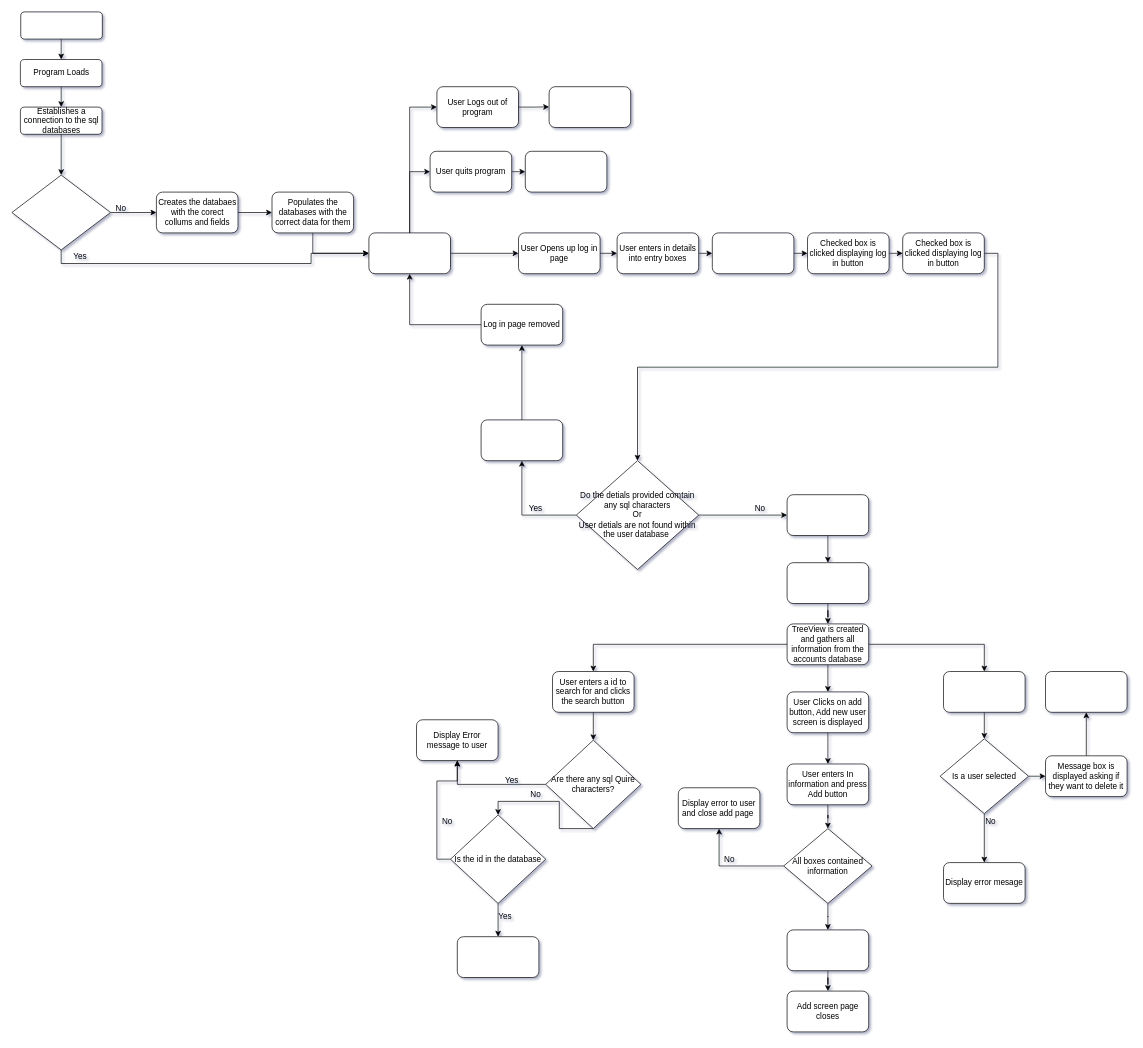
Some shapes in this 1143 by 1048 pixel diagram are drawn without their labels. The box of each missing label's shape, as (x1, y1, x2, y2) in pixels:
Delete button is pressed: (943, 671, 1025, 712)
Do the database exist: (11, 174, 111, 250)
Error message is displayed to User: (480, 419, 563, 461)
Gather al information with that id and display it in the search area: (457, 936, 539, 978)
Log in page closes and menu is updated: (786, 494, 869, 536)
Main Page of program is displayed: (368, 232, 451, 274)
Menu is updated removing option for viewing the pim system: (548, 86, 631, 128)
Program Terminates: (525, 151, 607, 192)
Selected details are removed from both tree view and sql database: (1045, 671, 1127, 712)
Start: (20, 11, 102, 39)
Terms & Service lable is clicked displaying the pdf: (712, 232, 794, 274)
User clicks on PIM system and PIM system is displayed: (786, 562, 869, 604)
Users details are enter into the database: (786, 929, 869, 971)
